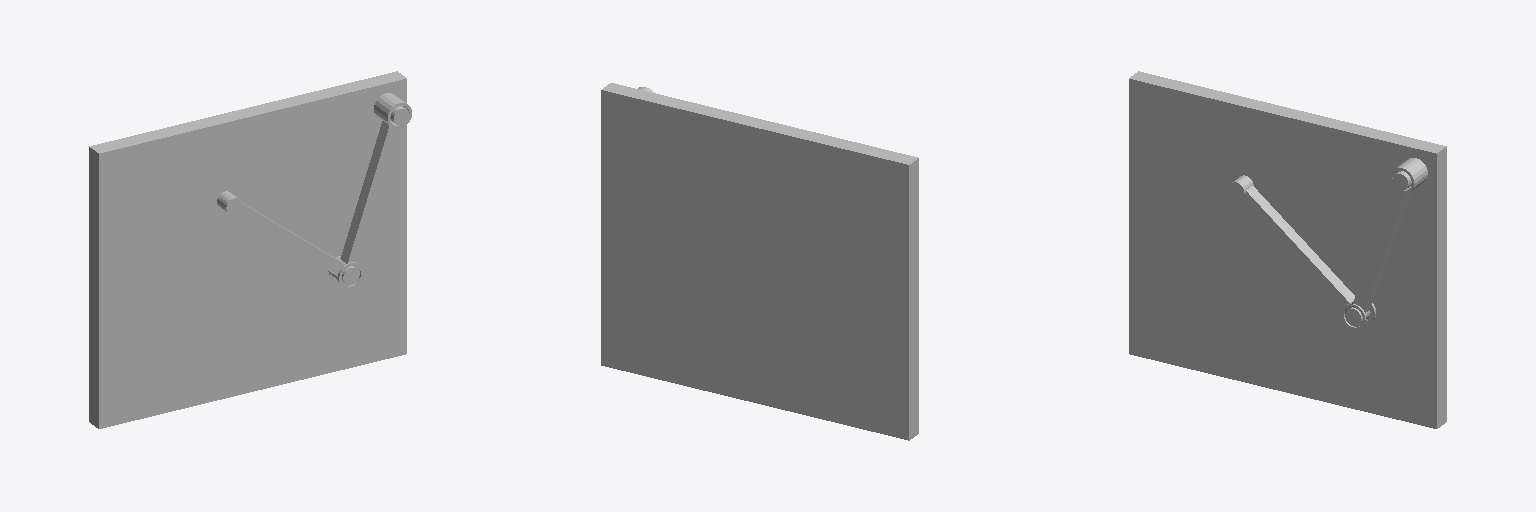
Rendered from planeJoint.obj.
3 renders of one model, left to right at view 1: azimuth 30°, elevation 25°; view 2: azimuth 150°, elevation 25°; view 3: azimuth 330°, elevation 25°, orthographic.
Parts seen in each view (by area): view 1: group2 polySurface6, polySurface3 group2, group2 polySurface5; view 2: group2 polySurface6; view 3: group2 polySurface6, group2 polySurface5, polySurface3 group2.
Boxes of the visible parts, <box> form: group2 polySurface6: <box>89,71,409,428</box>; polySurface3 group2: <box>341,93,411,284</box>; group2 polySurface5: <box>217,191,363,288</box>; group2 polySurface6: <box>601,83,918,440</box>; group2 polySurface6: <box>1129,71,1446,428</box>; group2 polySurface5: <box>1228,175,1375,330</box>; polySurface3 group2: <box>1345,158,1427,325</box>.
Size of the model in its own units: 3.65 by 3.12 by 0.5216.